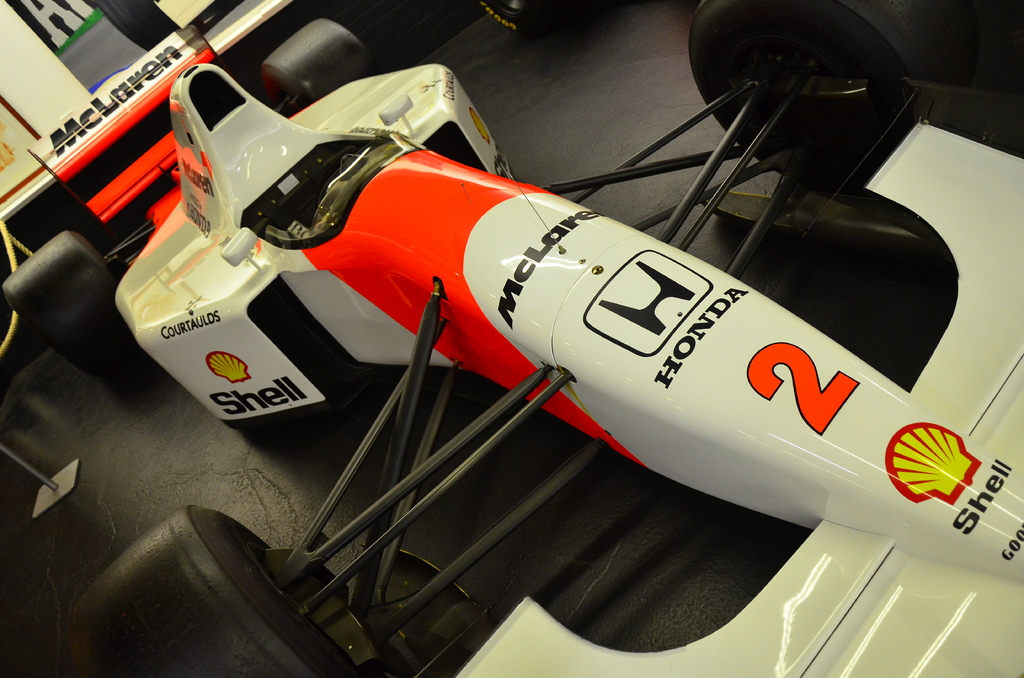Car: (0, 0, 969, 635)
